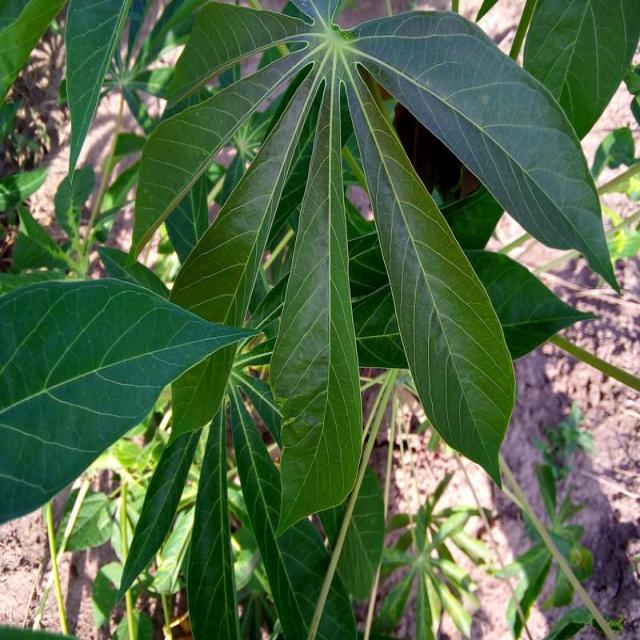cassava leaf: (130, 1, 620, 532), (343, 58, 518, 490), (1, 275, 266, 525), (270, 60, 364, 538)
